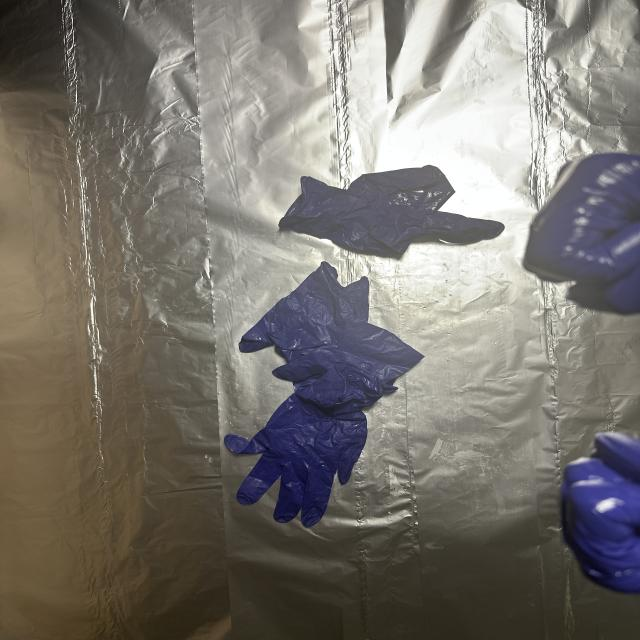gloves_contaminated: (524, 153, 640, 314), (561, 434, 640, 593)
